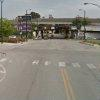Crosswalk: (7, 47, 100, 73)
